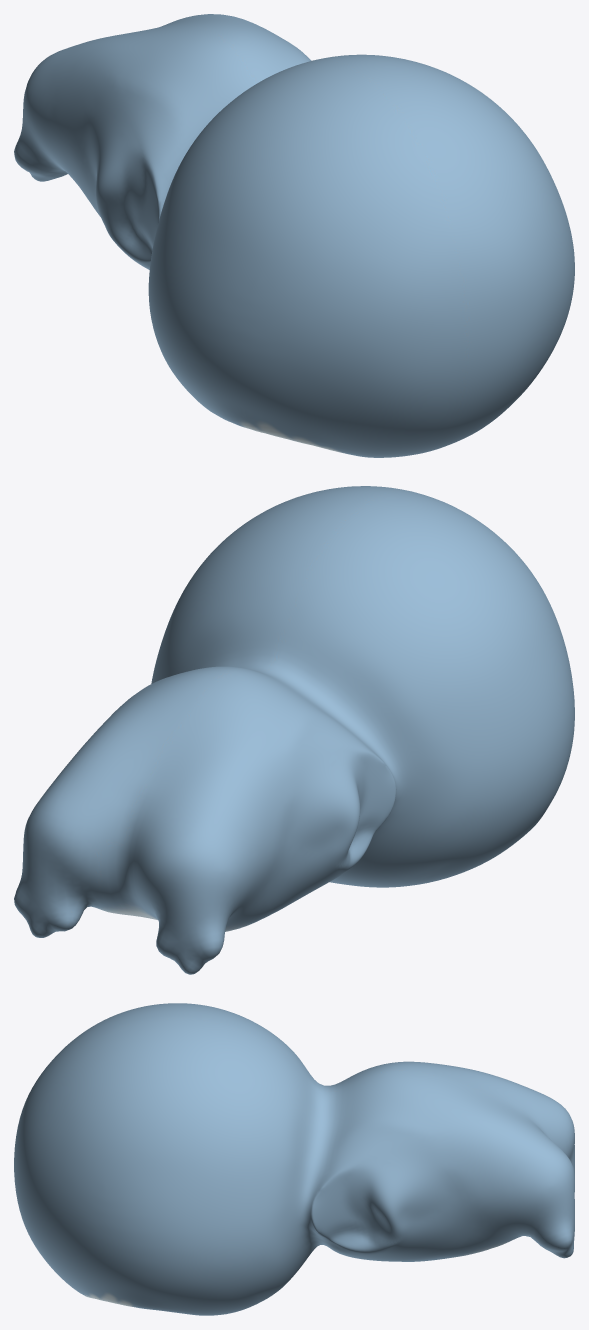
Rendered from Body.obj.
3 renders of one model, top to bottom at view 1: azimuth 30°, elevation 25°; view 2: azimuth 150°, elevation 25°; view 3: azimuth 270°, elevation 25°, orthographic. The views are drawn at different scales.
Visible parts, largest first — view 1: ZBrush_defualt_group; view 2: ZBrush_defualt_group; view 3: ZBrush_defualt_group.
Part boxes in pixels (bbox=[...]): ZBrush_defualt_group: bbox=[14, 14, 574, 457]; ZBrush_defualt_group: bbox=[14, 486, 574, 974]; ZBrush_defualt_group: bbox=[14, 1003, 574, 1315].
Bounding box in the file's own units: 125 × 110 × 207.
